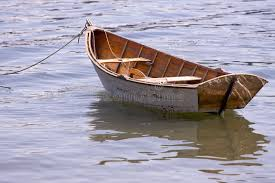boat: (83, 17, 269, 114)
